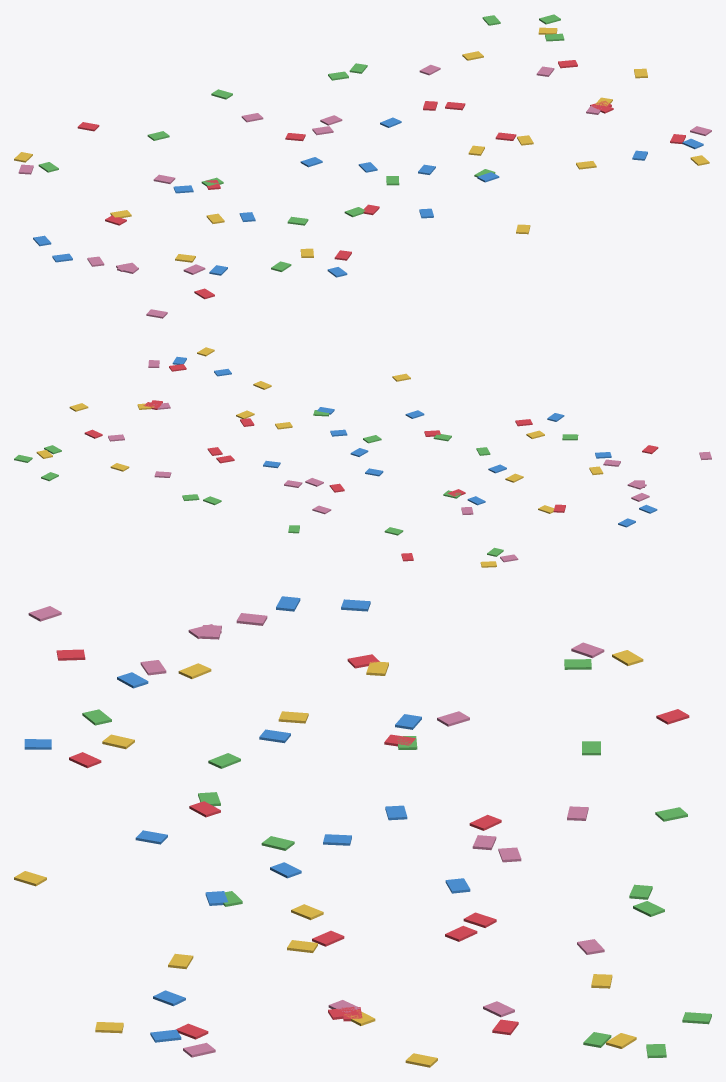
File: confetti.glb
3 views of the same model, one above another, from view 1: azimuth 30°, elevation 25°; view 2: azimuth 150°, elevation 25°; view 3: azimuth 270°, elevation 25° (orthographic). The views are drawn at different scales.
Visible parts, largest first — view 1: confetti; view 2: confetti; view 3: confetti.
Part boxes in pixels (x1=…): confetti: x1=14, y1=14, x2=711, y2=318; confetti: x1=14, y1=347, x2=711, y2=567; confetti: x1=14, y1=596, x2=711, y2=1067.
Size of the model in its own units: 0.8208 by 0.002 by 0.5162.
